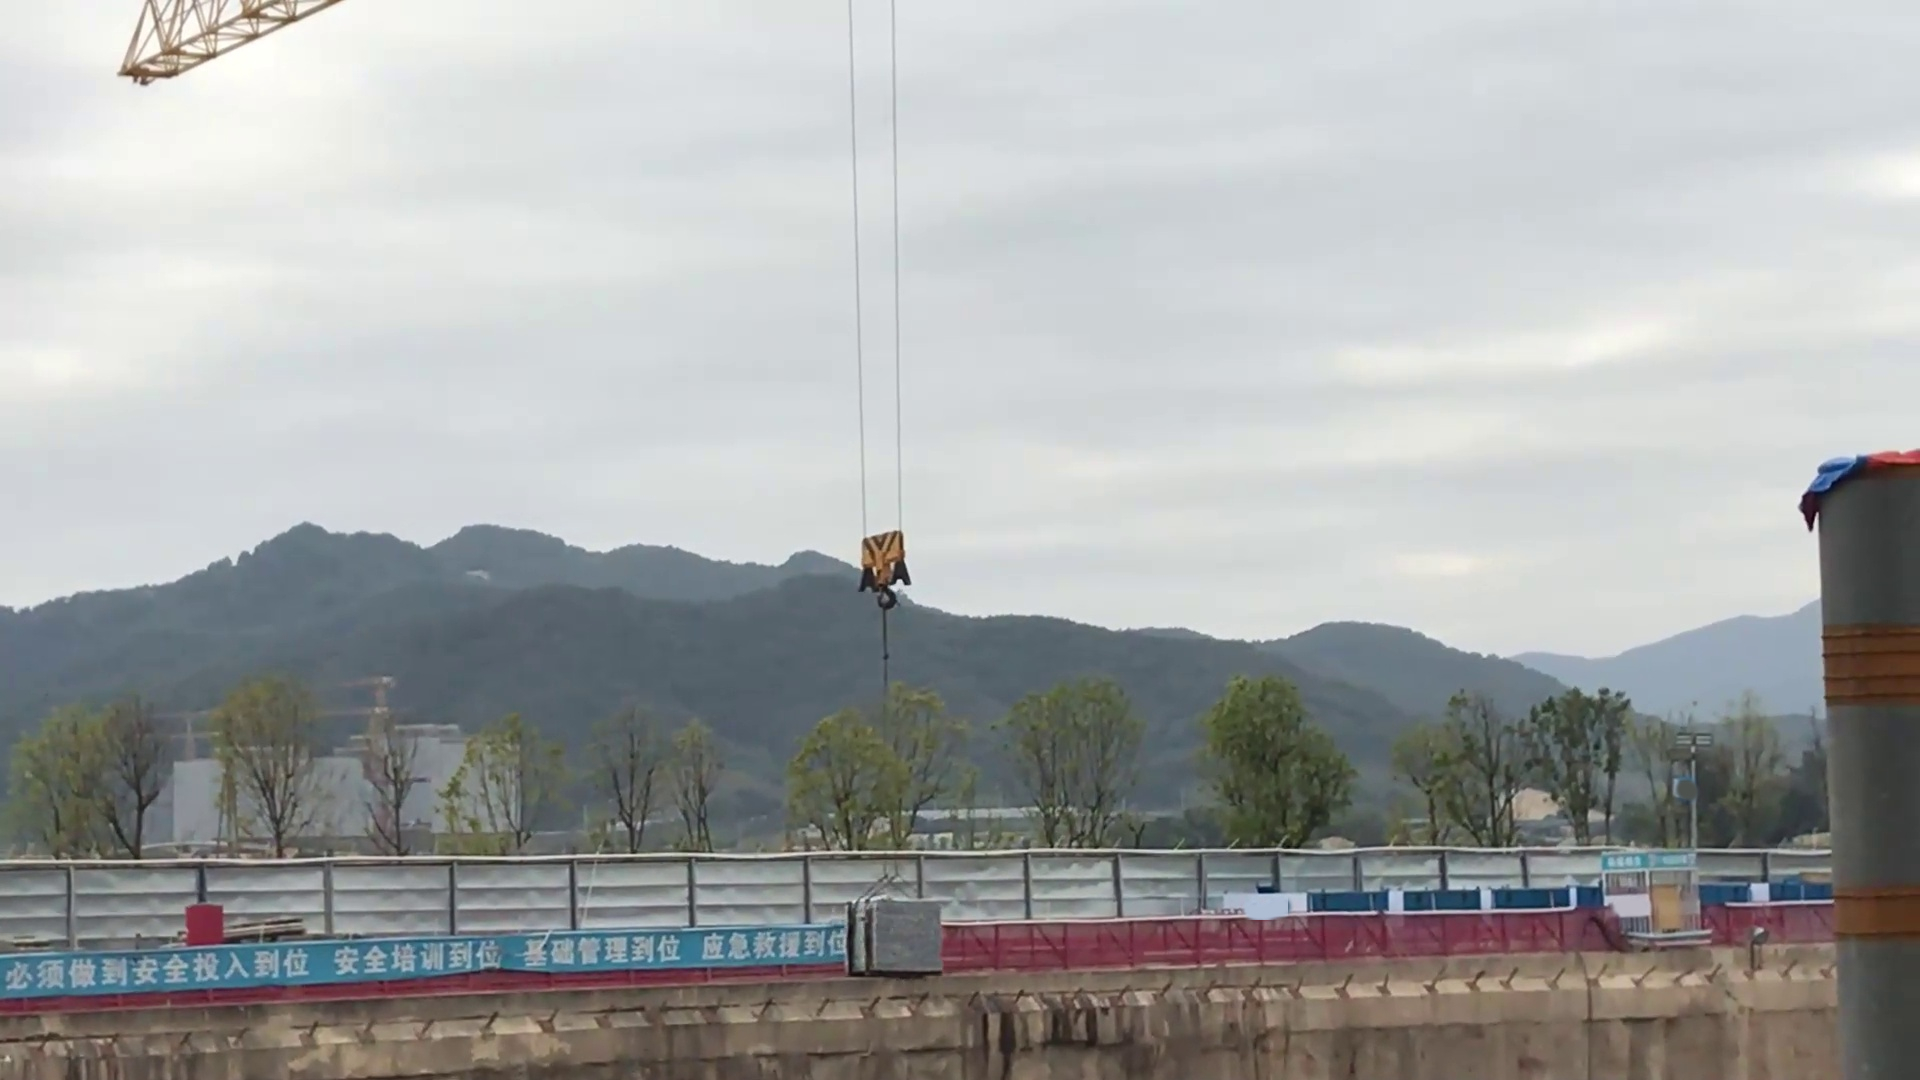fence: (7, 903, 1867, 1018)
hook: (858, 524, 913, 615)
scaffold: (844, 885, 949, 981)
slogan: (7, 926, 847, 989)
